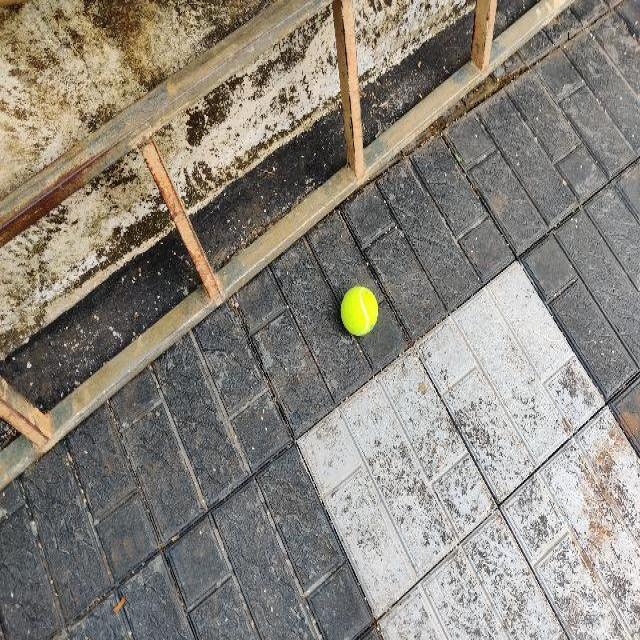tennis-ball: (340, 285, 378, 335)
